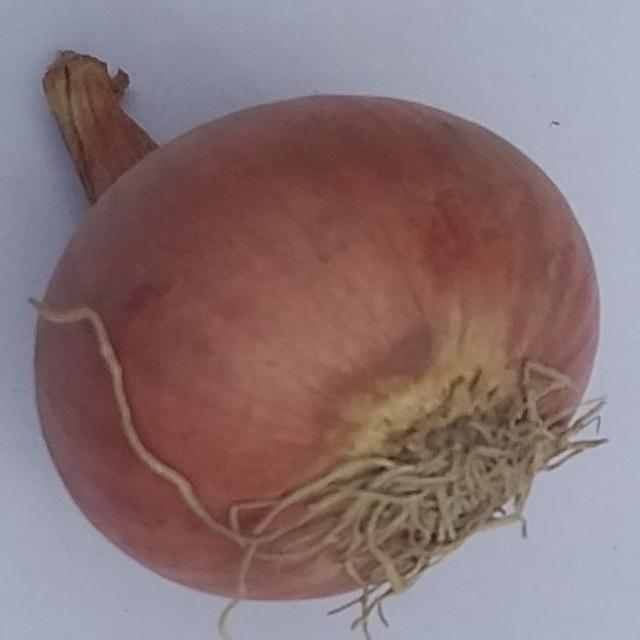onion: (29, 53, 615, 638)
